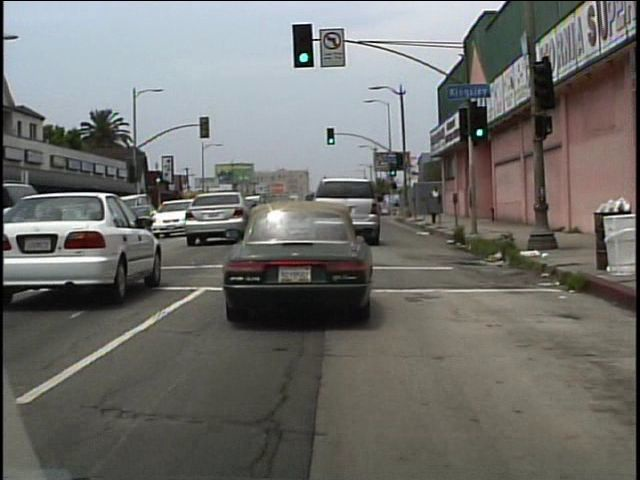person: (430, 184, 444, 215)
